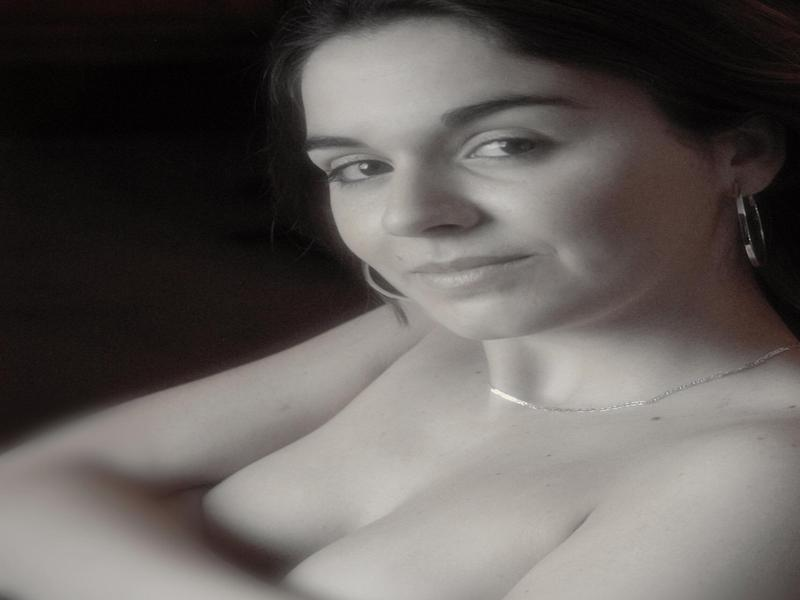person: (1, 10, 800, 599)
